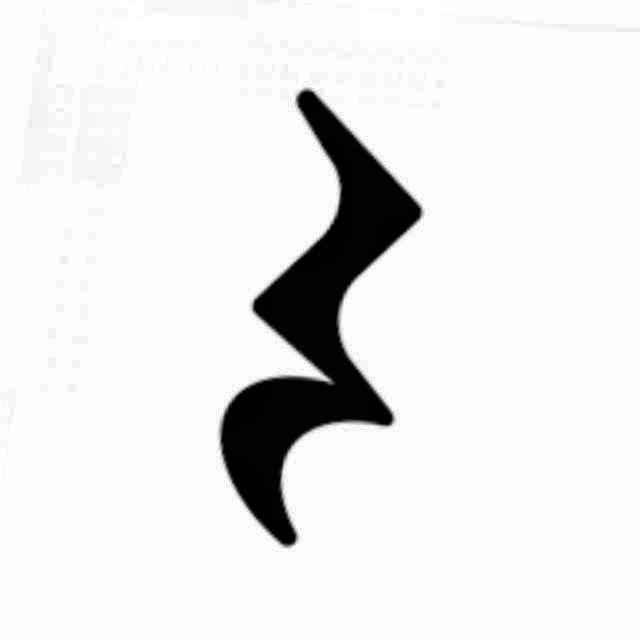Quarter-rest: (187, 76, 441, 564)
